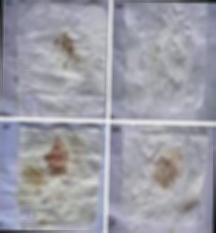blood: (46, 138, 69, 176), (58, 33, 75, 54)
